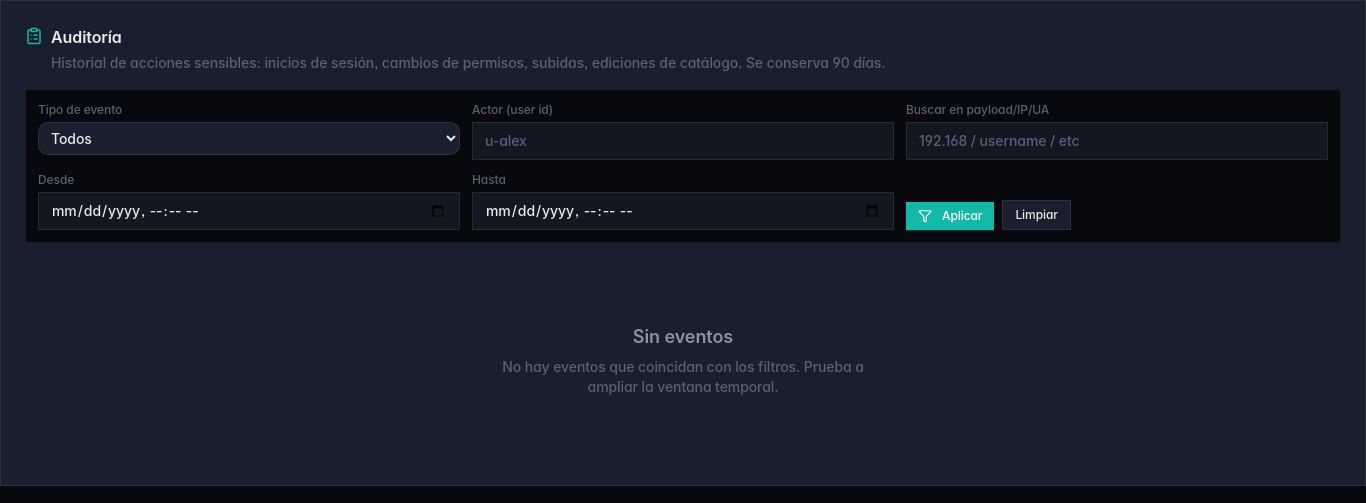
Scenario: AuditLogPanel — filtros › limpia los filtros con el botón Limpiar
Pone un filtro y aplica.
In the field with placeholder "u-alex": (683, 141) [472,122,894,160], type "u-x"
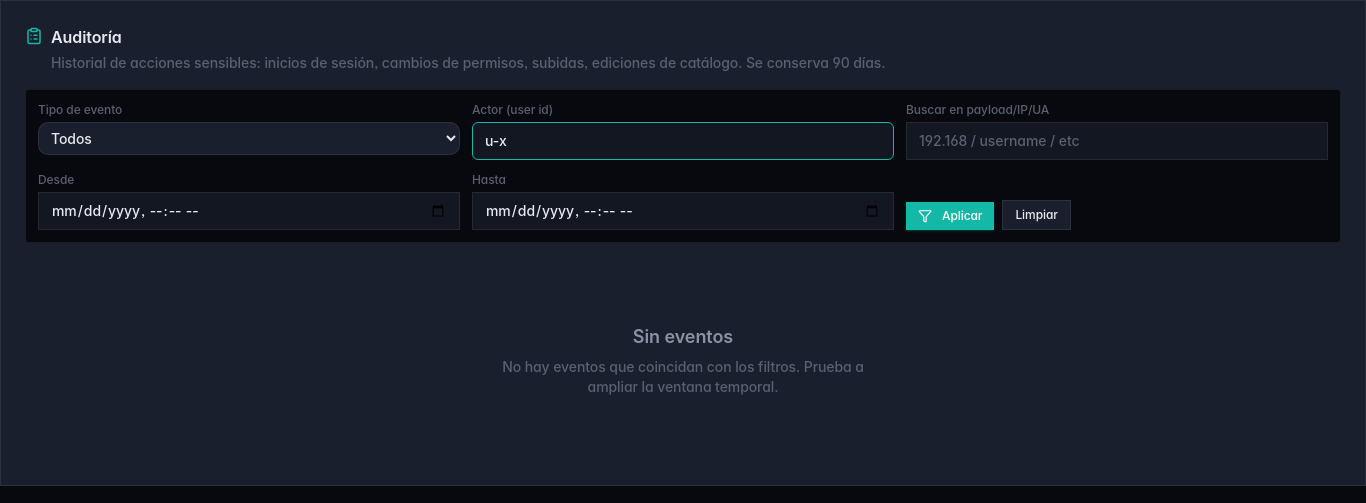
Click the button "Aplicar": click(950, 216) [906,202,994,230]
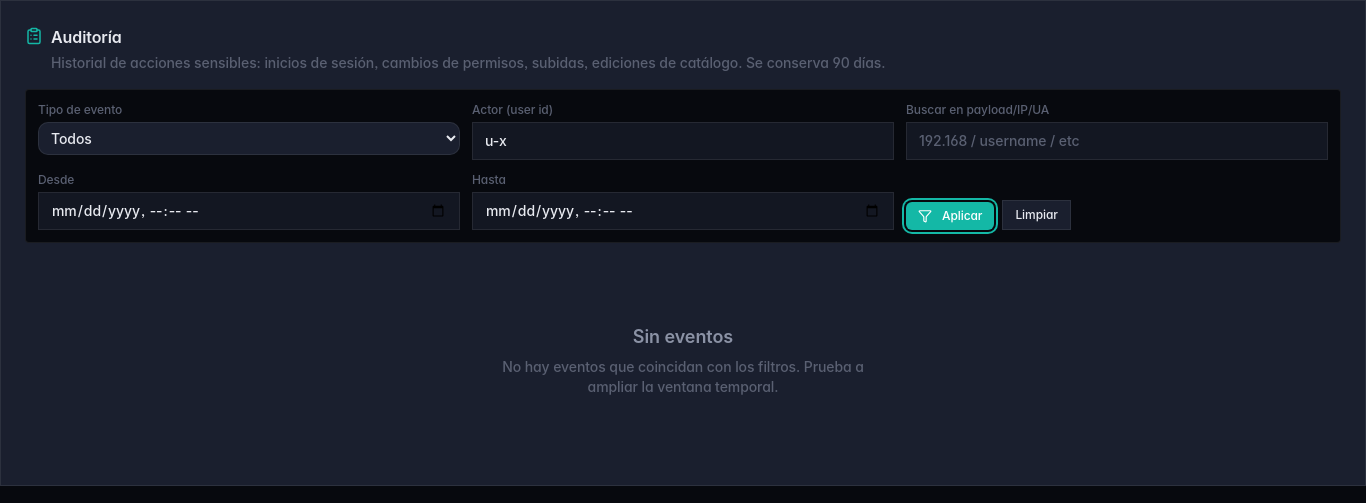
Click en Limpiar.
Click the button "Limpiar": click(1037, 215) [1002,200,1071,230]
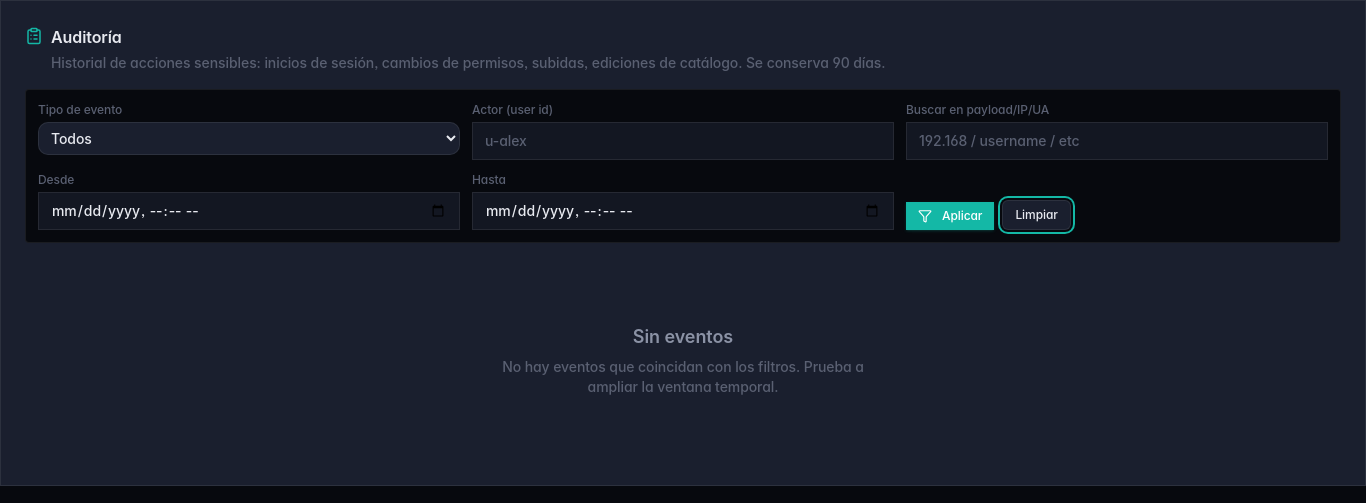
Expected: the field with placeholder "u-alex" is empty, [472,122,894,160]
